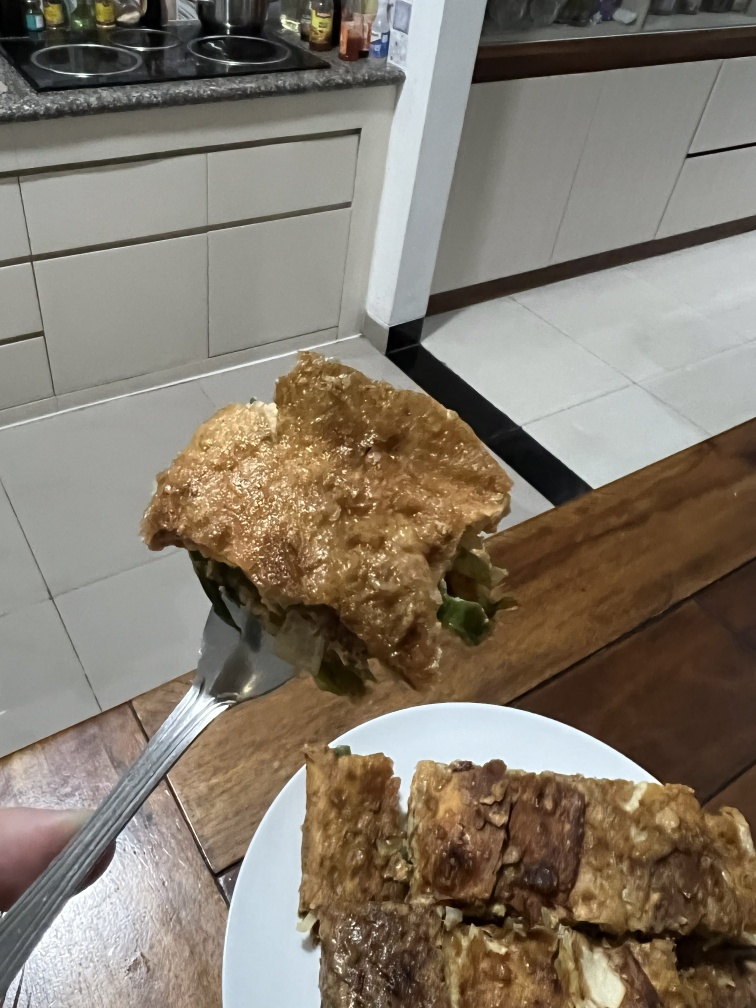martabak telor: (141, 320, 508, 668), (570, 767, 744, 933), (282, 713, 412, 901), (396, 724, 518, 904), (475, 747, 592, 929), (314, 895, 452, 1008), (428, 906, 579, 1008)
